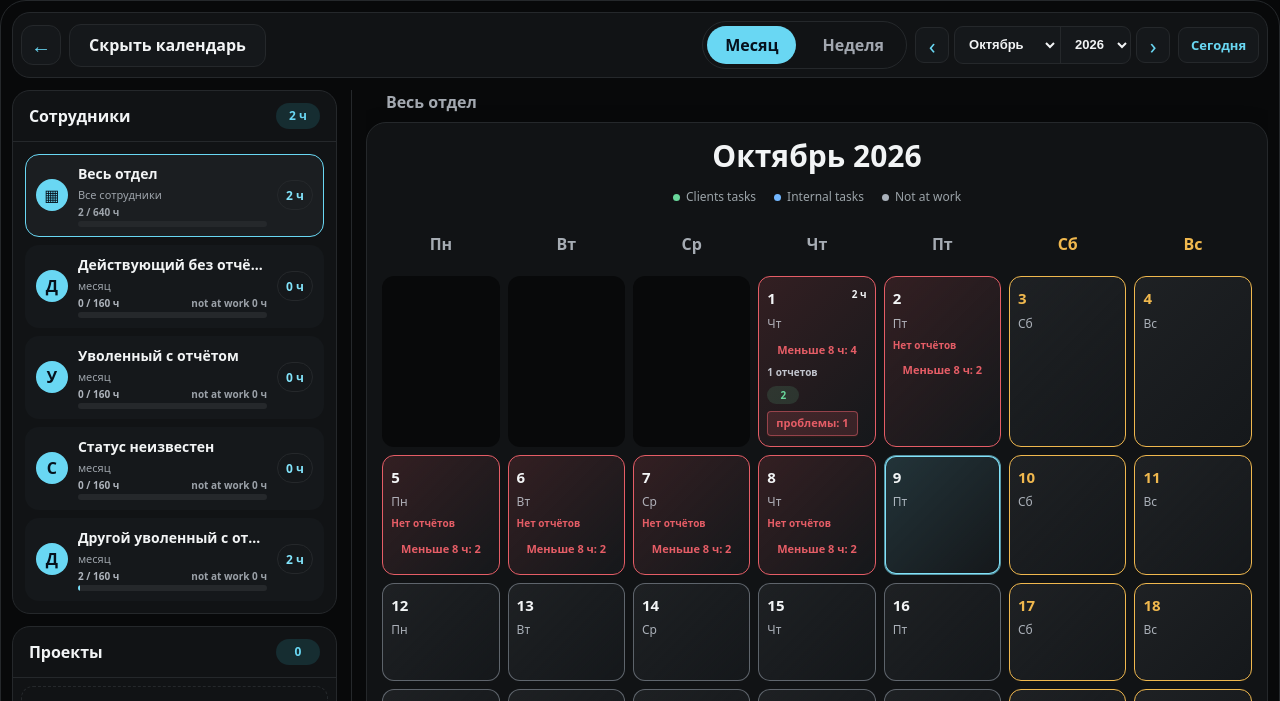
Scenario: calendar employee visibility › drops former employees in an empty month and restores them with historical reports
The width and height of the screenshot is (1280, 701).
Click the button "У Уволенный с отчётом месяц 0 / 160 ч not at work 0 ч 0 ч".
click(52, 377)  # box [25,336,324,419]
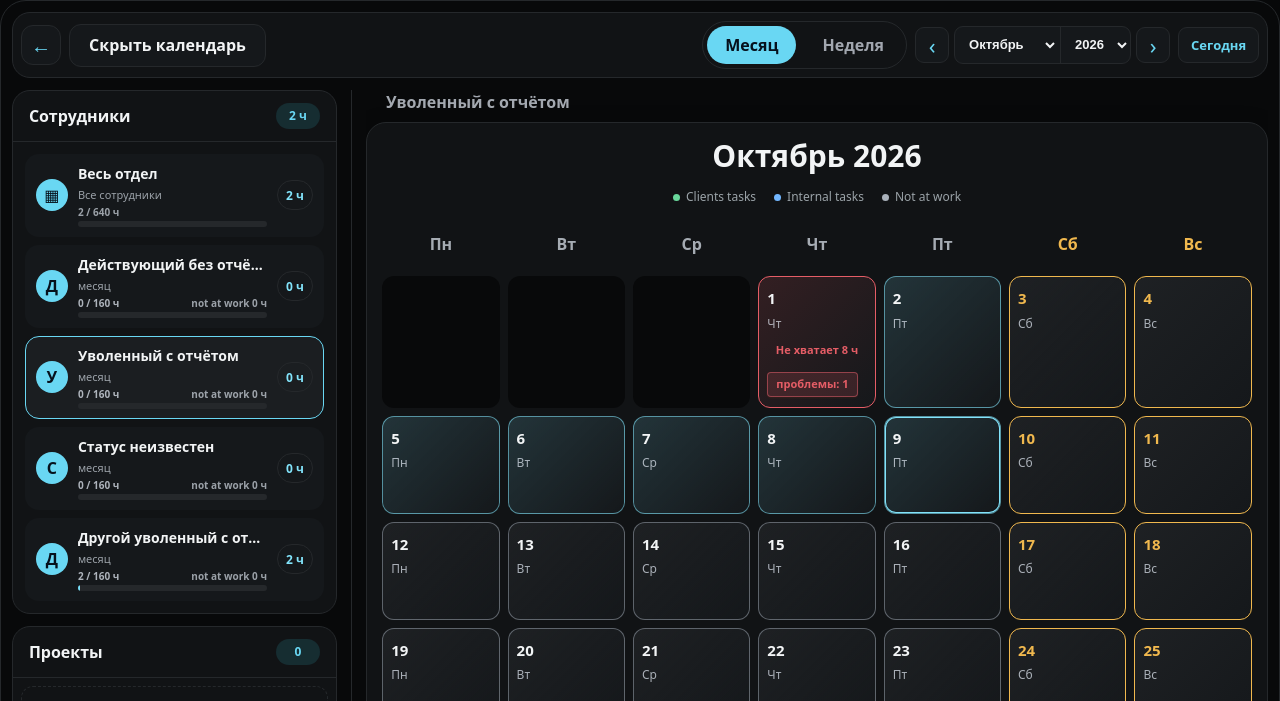
Click the button named "Следующий месяц".
click(1153, 45)  # box [1136,27,1170,63]
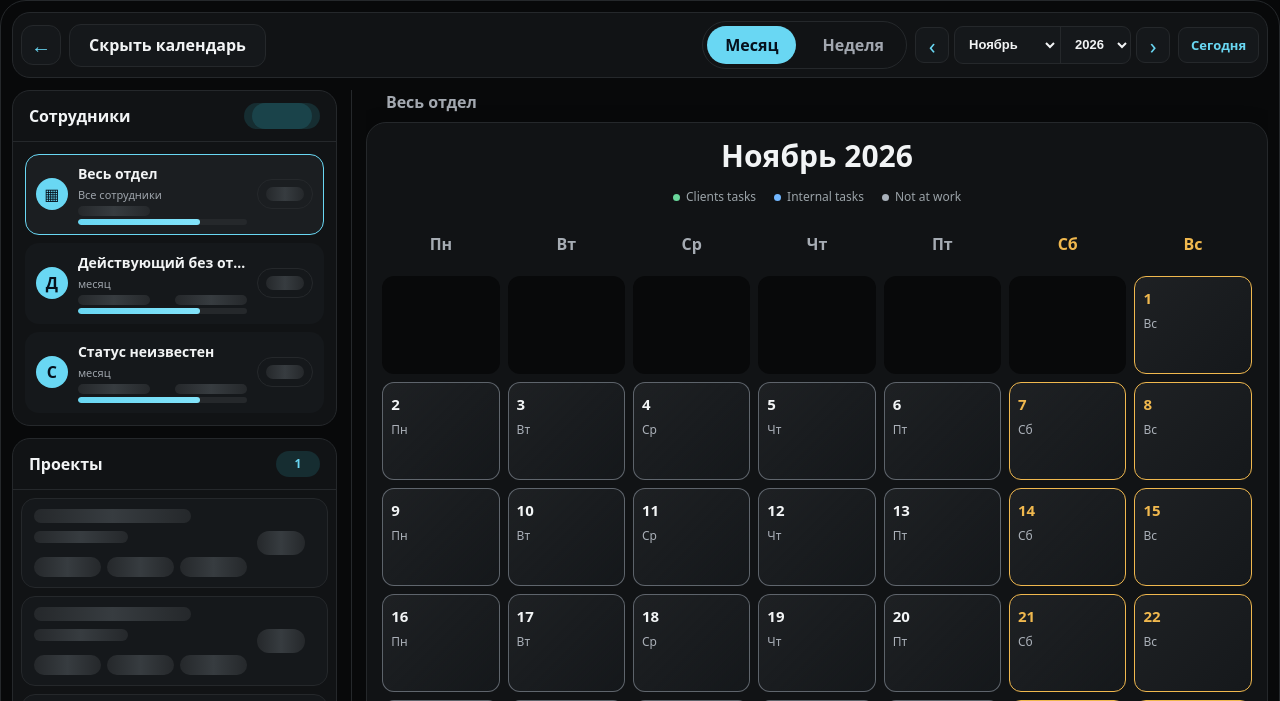
Expected: the button "Д Действующий без отчётов месяц" is shown, [25,243,324,324]
Now the button "Уволенный с отчётом" is gone
Click the button named "Предыдущий месяц".
click(932, 45)  # box [915,27,949,63]
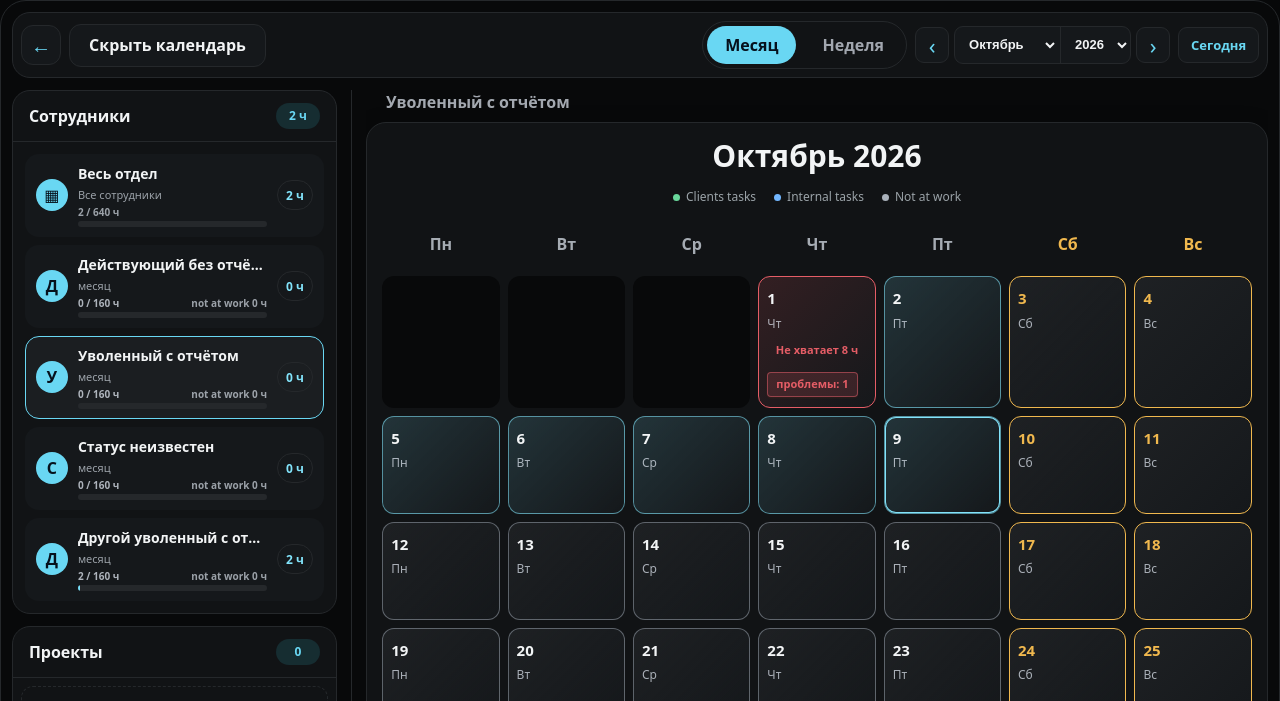
Now the button "У Уволенный с отчётом месяц 0 / 160 ч not at work 0 ч 0 ч" is shown, box [25,336,324,419]
